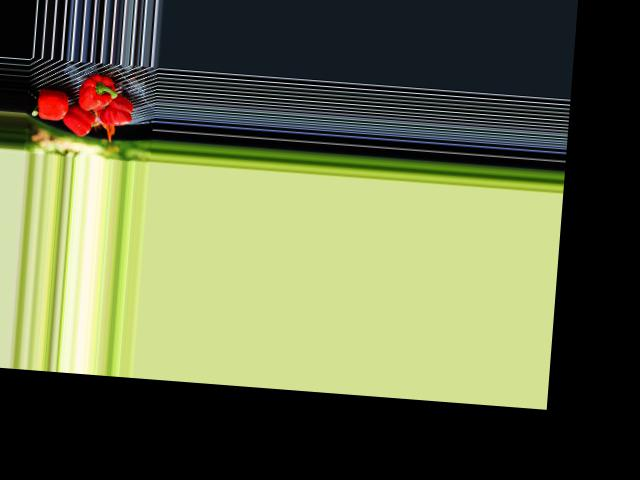bell_pepper: (96, 95, 134, 128)
